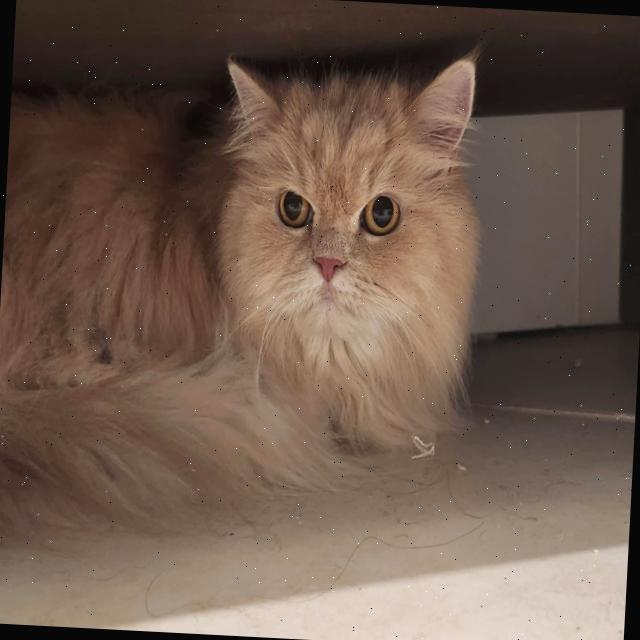persian_cat: (193, 26, 497, 450)
